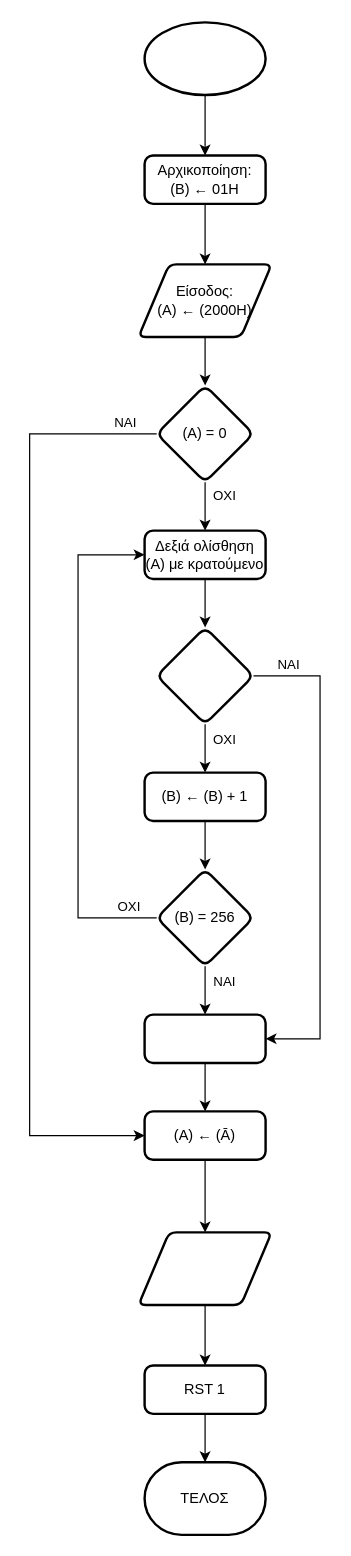
The diagram is 351 pixels wide and 1556 high, and some of its shapes have lost their labels. The box of each missing label's shape, as (x1, y1, x2, y2) in pixels:
(A) ← (B): (143, 1013, 266, 1064)
(CY) = 1: (155, 626, 254, 725)
Έξοδος: (3000H) ← (A): (137, 1231, 272, 1306)
ΑΡΧΗ: (143, 21, 266, 96)
